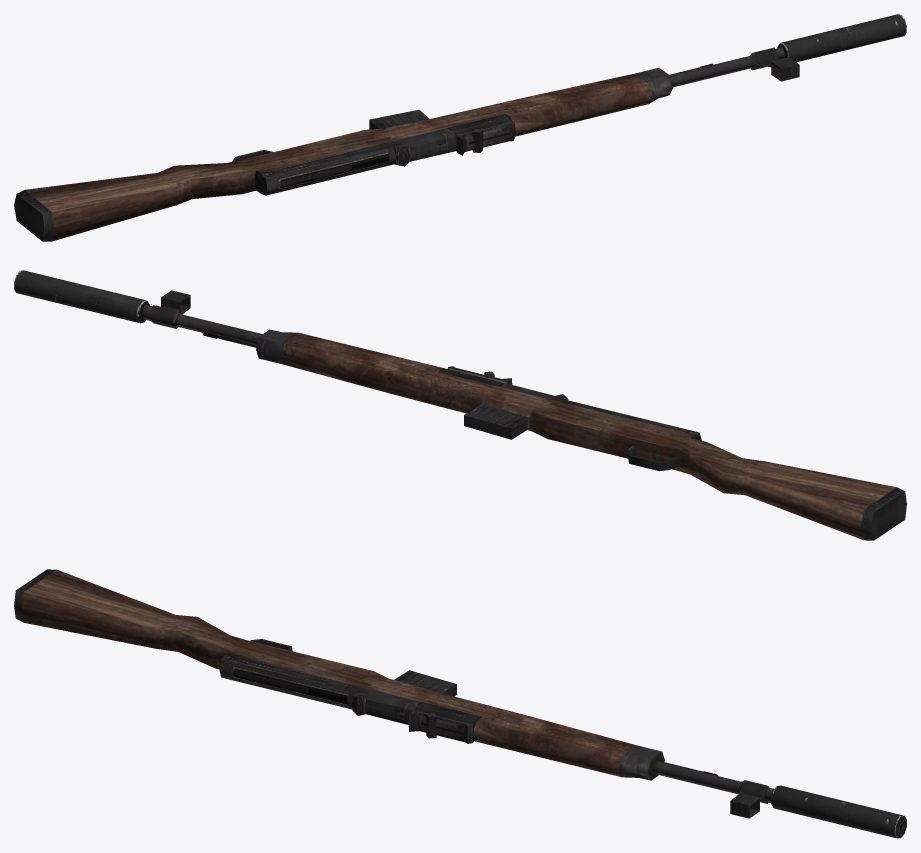
The model's file is weapon_ger_g43_rifle_silent_LOD11.obj.
3 views of the same model, one above another, from view 1: azimuth 30°, elevation 25°; view 2: azimuth 150°, elevation 25°; view 3: azimuth 330°, elevation 25° (orthographic). The views are drawn at different scales.
Visible parts, largest first — view 1: TomGroup_1, TomGroup_0, TomGroup_2; view 2: TomGroup_1, TomGroup_0, TomGroup_2; view 3: TomGroup_1, TomGroup_0, TomGroup_2.
Part boxes in pixels (x1,y1,x2,y2): TomGroup_1: [25, 73, 653, 241]; TomGroup_0: [14, 47, 799, 241]; TomGroup_2: [777, 14, 906, 62]; TomGroup_1: [281, 332, 896, 540]; TomGroup_0: [141, 290, 906, 540]; TomGroup_2: [14, 270, 149, 323]; TomGroup_1: [21, 570, 636, 777]; TomGroup_0: [14, 569, 773, 818]; TomGroup_2: [771, 785, 906, 838].
Size of the model in its own units: 146 by 4.81 by 17.92.
Materials: 3 (3 with a texture image).
